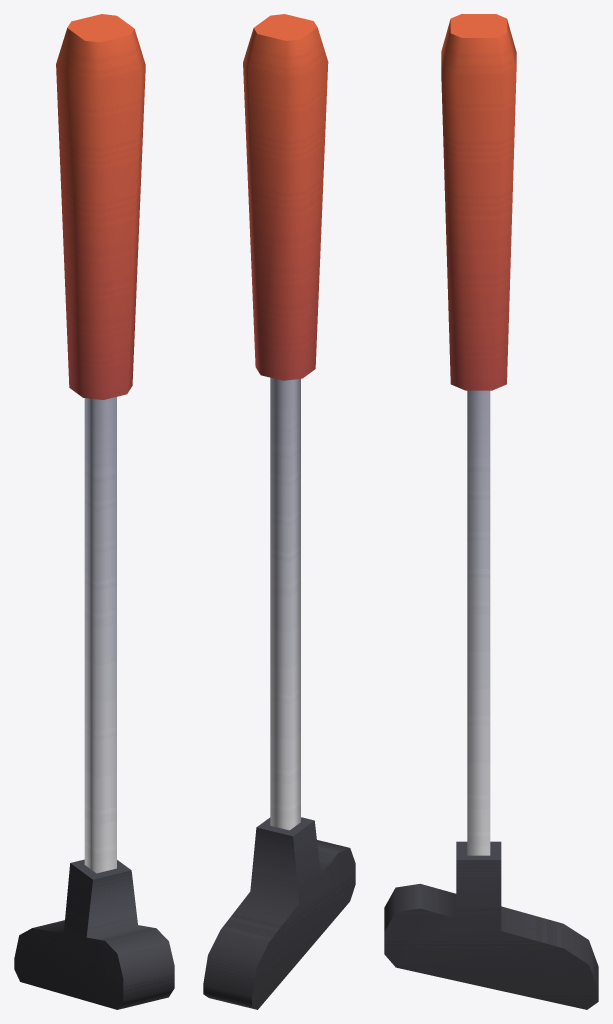
Rendered from club_red.glb.
3 renders of one model, left to right at view 1: azimuth 30°, elevation 25°; view 2: azimuth 150°, elevation 25°; view 3: azimuth 270°, elevation 25°, orthographic. The views are drawn at different scales.
Parts seen in each view (by area): view 1: club-red; view 2: club-red; view 3: club-red.
Boxes of the visible parts, x1,y1,x2,y2 form: club-red: (14,14,174,1009); club-red: (203,14,355,1009); club-red: (384,14,598,1009).
Bounding box in the file's own units: 0.0738 × 1.05 × 0.2102.
Materials: 1 (1 with a texture image).
